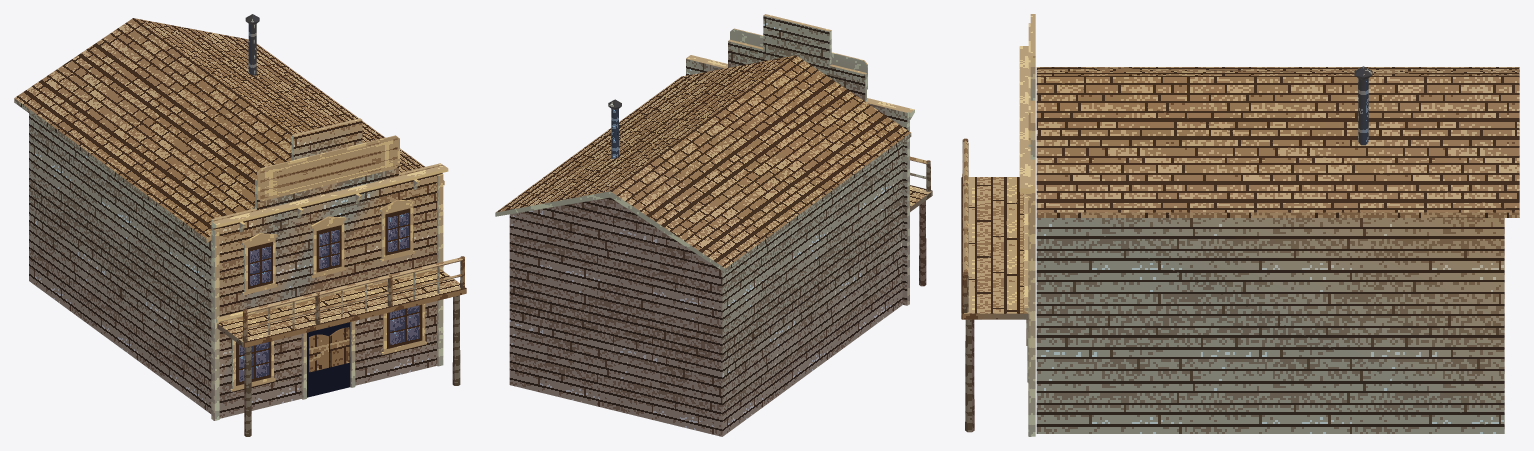
File: wtown.saloon.glb
The picture shows the model from 3 angles, left to right: view 1: azimuth 30°, elevation 25°; view 2: azimuth 150°, elevation 25°; view 3: azimuth 270°, elevation 25°; orthographic projection. The views are drawn at different scales.
Parts seen in each view (by area): view 1: kit_roof, kit_body, kit_front, kit_card_panes, kit_balcony, kit_trim, kit_windows, kit_door, kit_stovepipe; view 2: kit_body, kit_roof, kit_front, kit_trim, kit_balcony, kit_stovepipe; view 3: kit_body, kit_roof, kit_balcony, kit_trim, kit_front, kit_stovepipe.
Part boxes in pixels (x1,y1,x2,y2): kit_roof: (14, 18, 444, 242); kit_body: (29, 113, 399, 413); kit_front: (211, 118, 442, 419); kit_card_panes: (236, 138, 422, 397); kit_balcony: (217, 256, 466, 436); kit_trim: (211, 135, 448, 420); kit_windows: (230, 199, 426, 391); kit_door: (309, 327, 349, 372); kit_stovepipe: (245, 14, 259, 75); kit_body: (509, 143, 902, 436); kit_roof: (495, 55, 911, 272); kit_front: (686, 14, 909, 305); kit_trim: (686, 28, 914, 304); kit_balcony: (910, 156, 932, 286); kit_stovepipe: (608, 99, 621, 158); kit_body: (1036, 218, 1504, 433); kit_roof: (1036, 67, 1519, 217); kit_balcony: (961, 138, 1028, 432); kit_trim: (1019, 23, 1031, 436); kit_front: (1030, 14, 1035, 436); kit_stovepipe: (1354, 66, 1372, 145).
Size of the model in its own units: 8.1 by 8.7 by 13.12.
12 materials, 12 textured.
